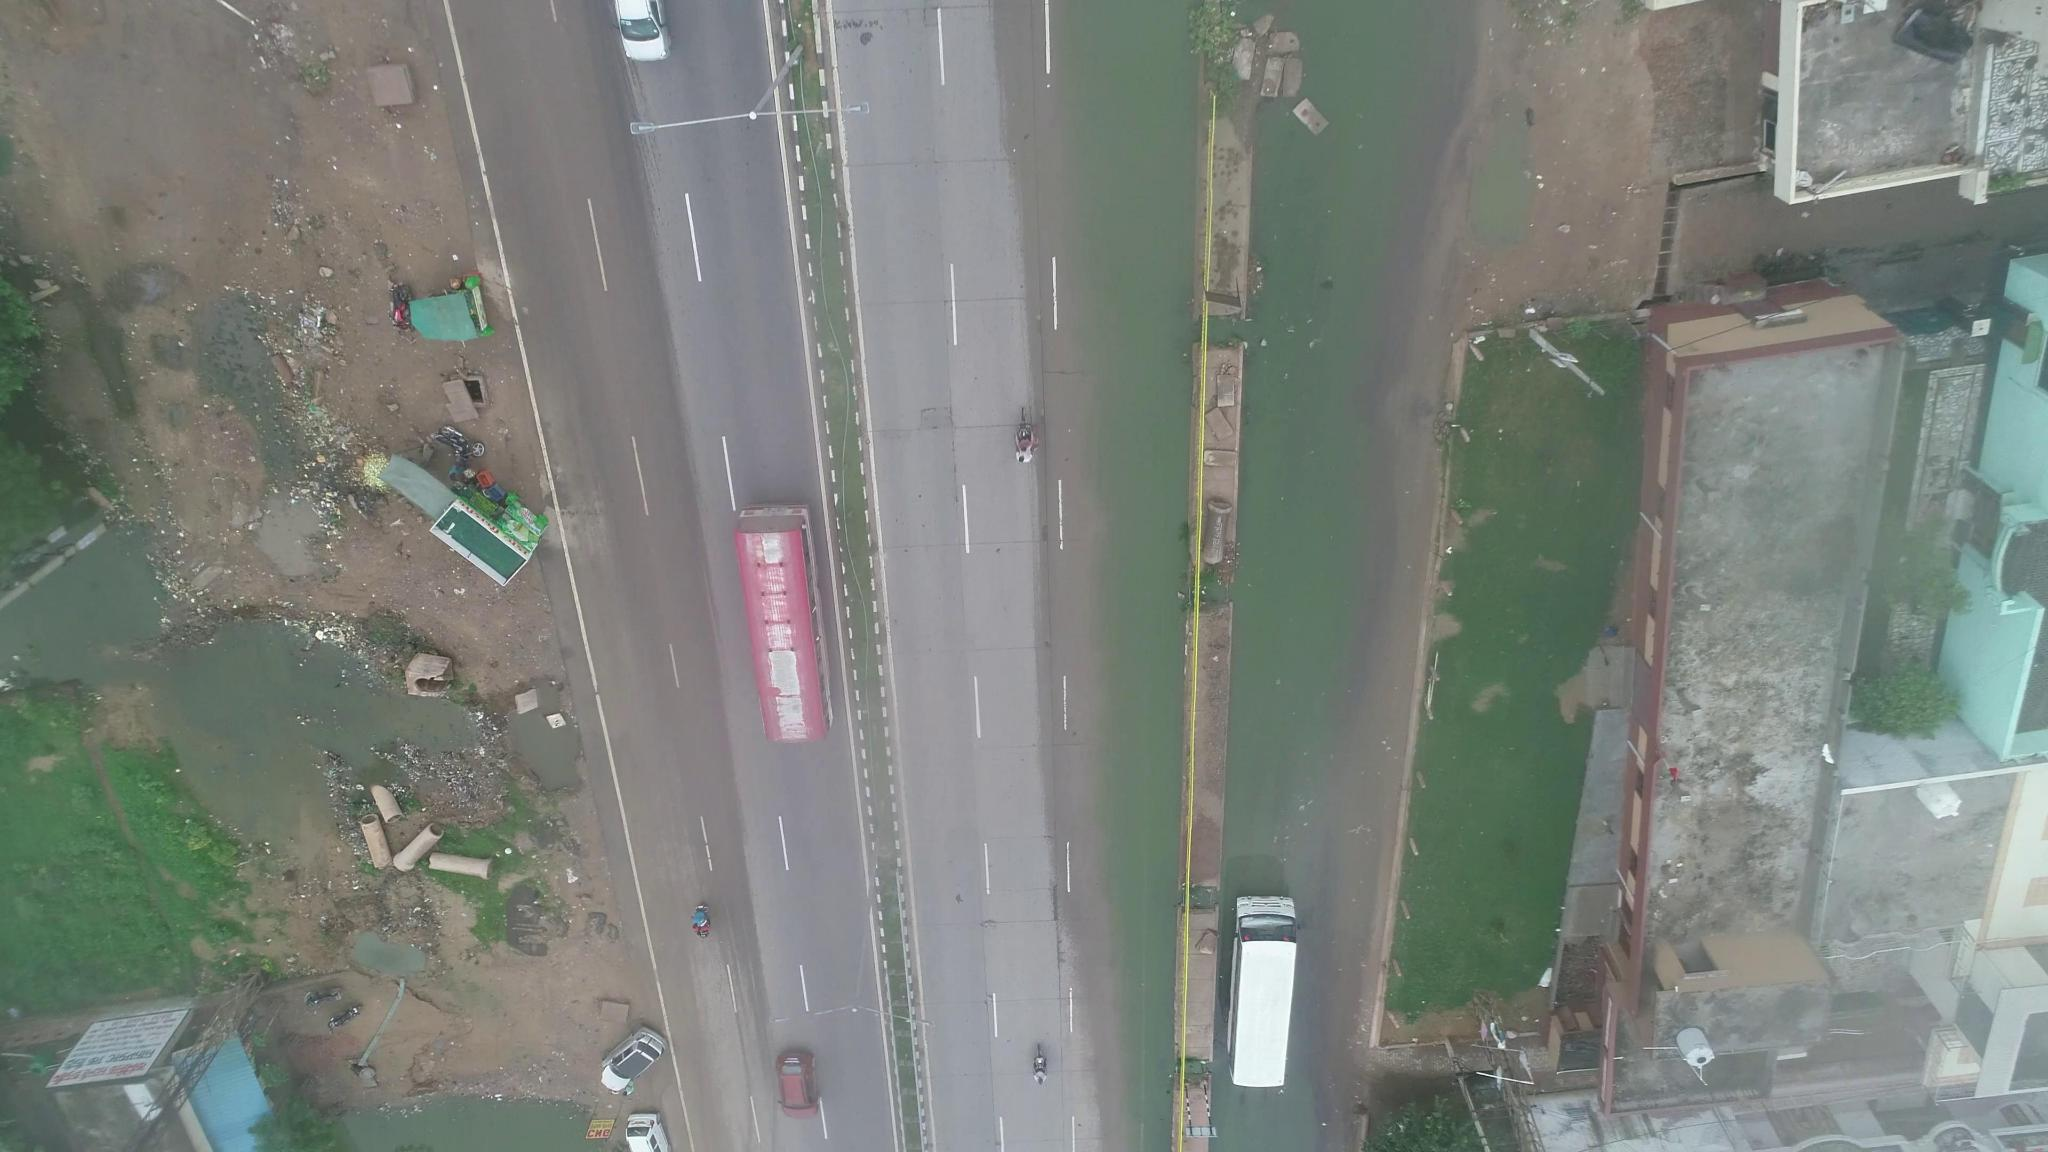Waterlogging: (1260, 42, 1432, 460), (1075, 24, 1183, 634), (1220, 474, 1357, 871), (1069, 682, 1183, 1118)
